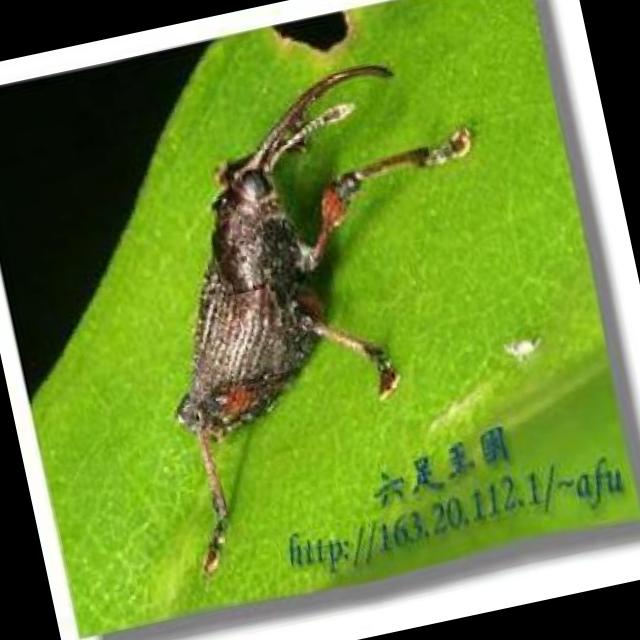rice-bug: (112, 88, 425, 478)
